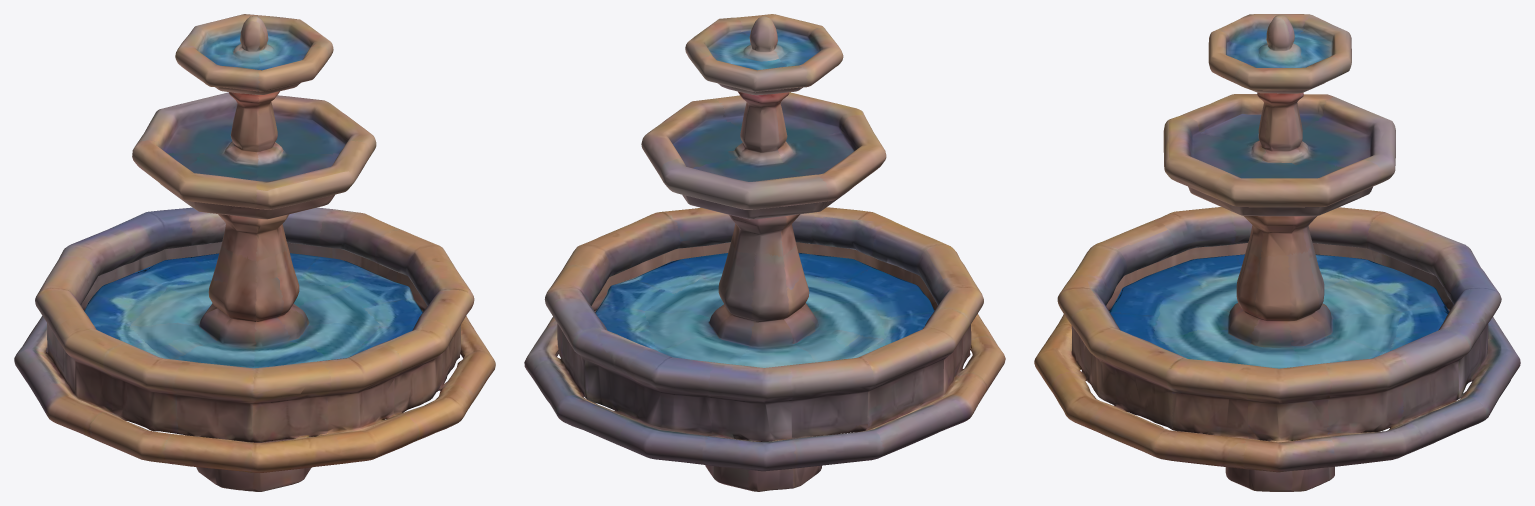
Rendered from fountain.glb.
3 renders of one model, left to right at view 1: azimuth 30°, elevation 25°; view 2: azimuth 150°, elevation 25°; view 3: azimuth 270°, elevation 25°, orthographic.
Visible parts, largest first — view 1: tripo_node_baa8d5df-8958-4345-9081-18341598cb84; view 2: tripo_node_baa8d5df-8958-4345-9081-18341598cb84; view 3: tripo_node_baa8d5df-8958-4345-9081-18341598cb84.
Boxes of the visible parts, x1=… form: tripo_node_baa8d5df-8958-4345-9081-18341598cb84: x1=14, y1=14, x2=495, y2=491; tripo_node_baa8d5df-8958-4345-9081-18341598cb84: x1=524, y1=14, x2=1005, y2=491; tripo_node_baa8d5df-8958-4345-9081-18341598cb84: x1=1034, y1=14, x2=1520, y2=491.
Size of the model in its own units: 0.9129 by 0.948 by 0.9229.
1 material, 1 textured.
